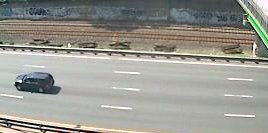car: (12, 69, 58, 96)
